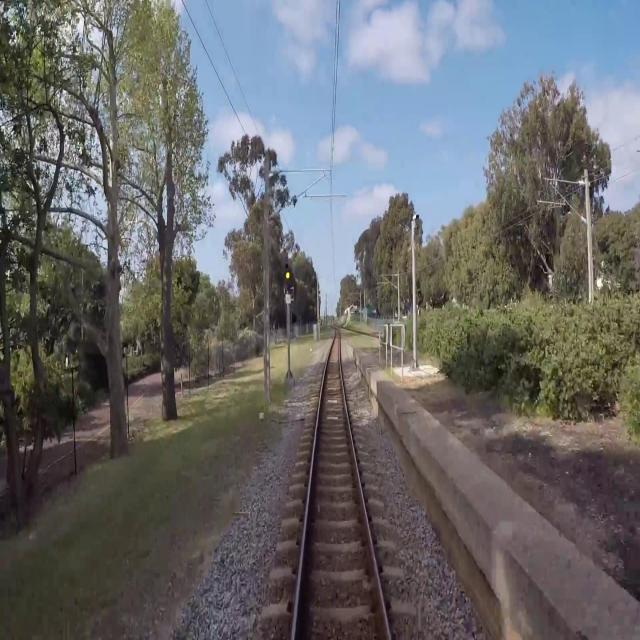rail-track: (295, 331, 386, 639)
